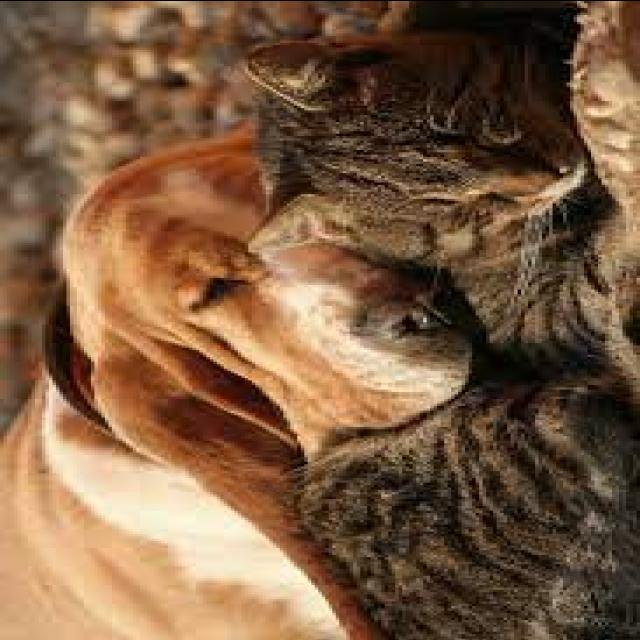cat: (242, 11, 626, 639)
dog: (0, 140, 472, 640)
